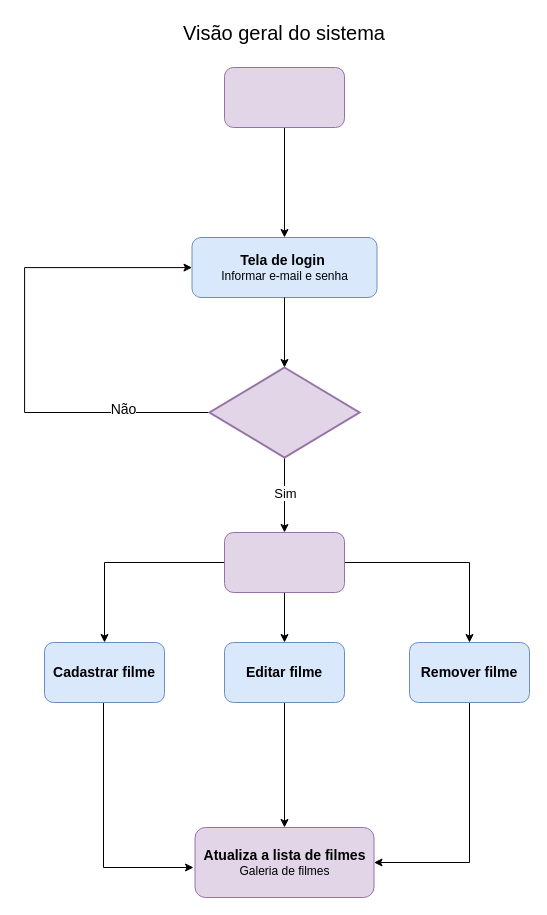
This 547x915 diagram has some shape labels left out. Here are the shapes that lost their labels. From the top down, the centre of each, then its label:
point 284,97: Início
point 284,412: Login válido?
point 284,562: Tela principal Tela de filmesl
